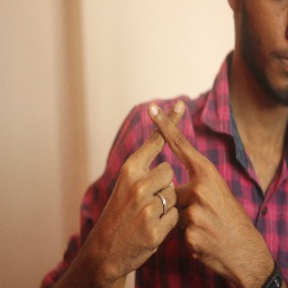X: (102, 85, 234, 211)
